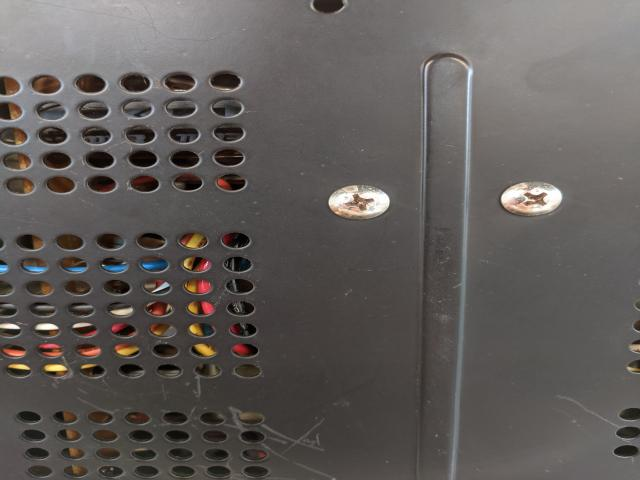CRS: (499, 179, 564, 216), (330, 184, 390, 220)
